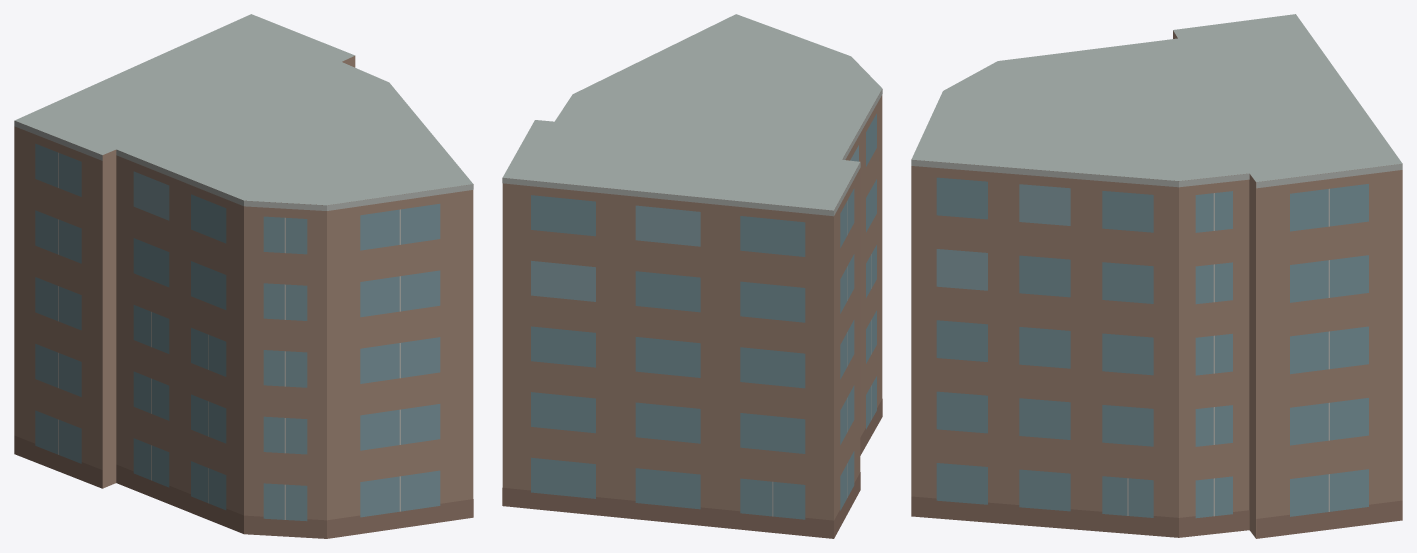
The model's file is survey-upis-32881069.glb.
The picture shows the model from 3 angles, left to right: view 1: azimuth 30°, elevation 25°; view 2: azimuth 150°, elevation 25°; view 3: azimuth 270°, elevation 25°; orthographic projection. The views are drawn at different scales.
Parts seen in each view (by area): view 1: survey-upis-32881069.tmp; view 2: survey-upis-32881069.tmp; view 3: survey-upis-32881069.tmp.
Boxes of the visible parts, bbox=[...] form: survey-upis-32881069.tmp: bbox=[14, 14, 473, 538]; survey-upis-32881069.tmp: bbox=[502, 14, 882, 538]; survey-upis-32881069.tmp: bbox=[911, 14, 1402, 538].
Size of the model in its own units: 14.27 by 14.1 by 17.62.
